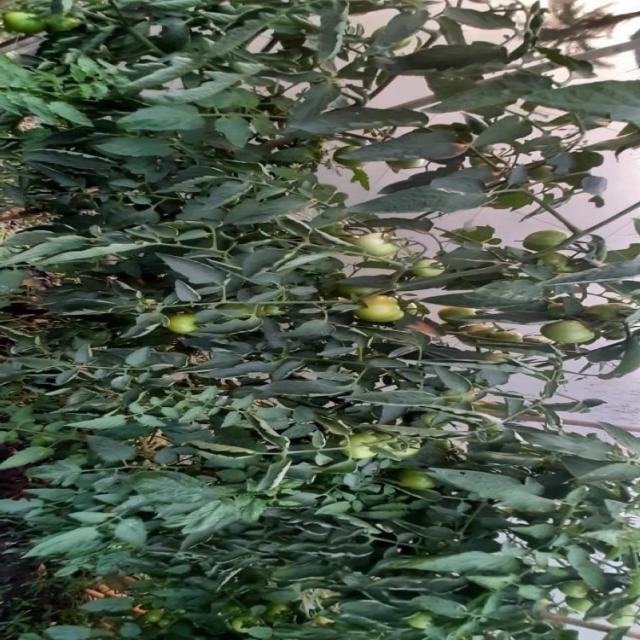tomato: (532, 314, 600, 362), (522, 227, 583, 258), (411, 254, 460, 292), (359, 292, 408, 327), (344, 429, 390, 464), (361, 222, 404, 257), (167, 309, 200, 332)
